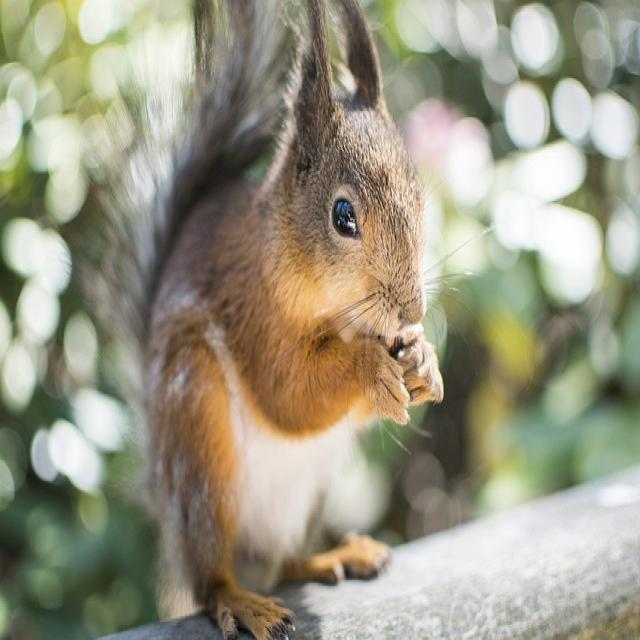Herbivorous: (123, 0, 446, 640)
